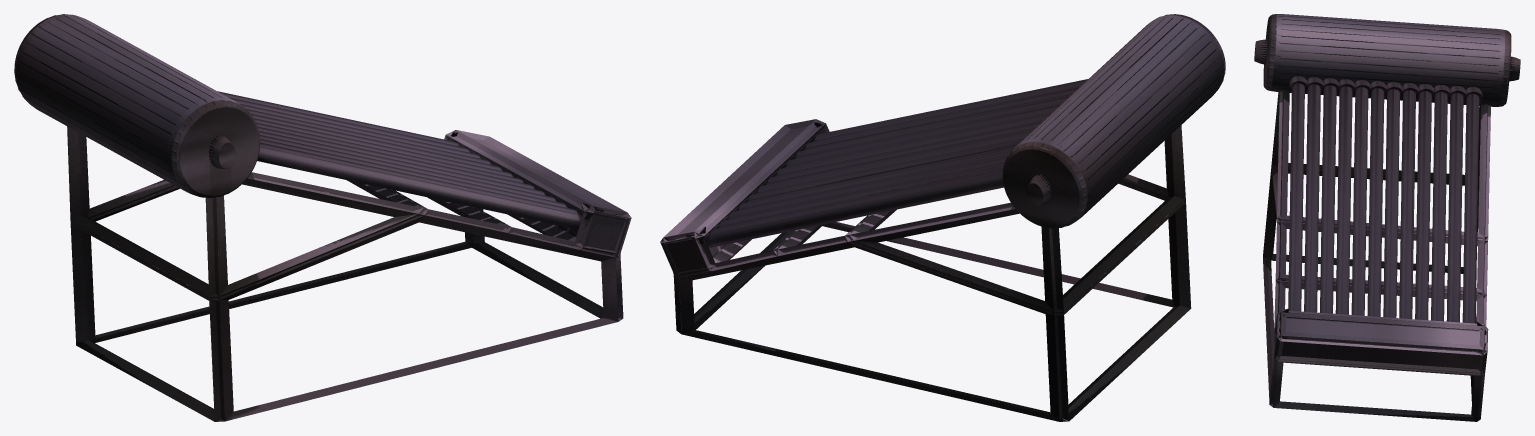
The model's file is int_102.fbx.
3 views of the same model, side by side, from view 1: azimuth 30°, elevation 25°; view 2: azimuth 150°, elevation 25°; view 3: azimuth 270°, elevation 25° (orthographic). The views are drawn at different scales.
Parts seen in each view (by area): view 1: calentadors.001; view 2: calentadors.001; view 3: calentadors.001.
Part boxes in pixels (box(x1,y1,x2,y2)): calentadors.001: box(14, 14, 631, 421); calentadors.001: box(660, 14, 1225, 421); calentadors.001: box(1254, 14, 1520, 421).
Bounding box in the file's own units: 321 × 219 × 207.
Materials: 1 (1 with a texture image).
